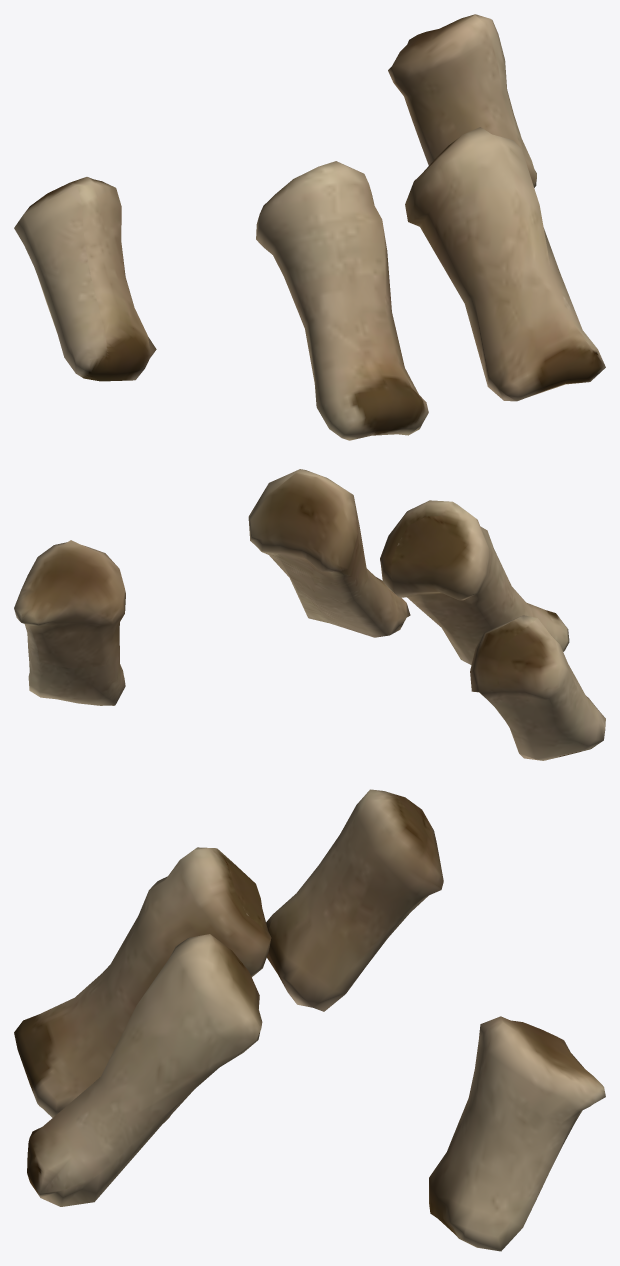
Rendered from Middle_Phalanges.glb.
3 views of the same model, one above another, from view 1: azimuth 30°, elevation 25°; view 2: azimuth 150°, elevation 25°; view 3: azimuth 270°, elevation 25° (orthographic). The views are drawn at different scales.
Visible parts, largest first — view 1: polySurface42, polySurface41, polySurface40, polySurface43; view 2: polySurface42, polySurface43, polySurface41, polySurface40; view 3: polySurface42, polySurface43, polySurface41, polySurface40.
Part boxes in pixels (bbox=[...]): polySurface42: bbox=[405, 127, 605, 401]; polySurface41: bbox=[256, 161, 428, 440]; polySurface40: bbox=[14, 177, 156, 381]; polySurface43: bbox=[388, 14, 536, 187]; polySurface42: bbox=[248, 469, 410, 637]; polySurface43: bbox=[14, 540, 125, 705]; polySurface41: bbox=[380, 500, 569, 664]; polySurface40: bbox=[470, 615, 605, 760]; polySurface42: bbox=[27, 934, 262, 1206]; polySurface43: bbox=[429, 1016, 605, 1251]; polySurface41: bbox=[14, 847, 271, 1117]; polySurface40: bbox=[266, 789, 443, 1011].
Size of the model in its own units: 37.64 by 14.77 by 30.97.
Materials: 1 (1 with a texture image).
